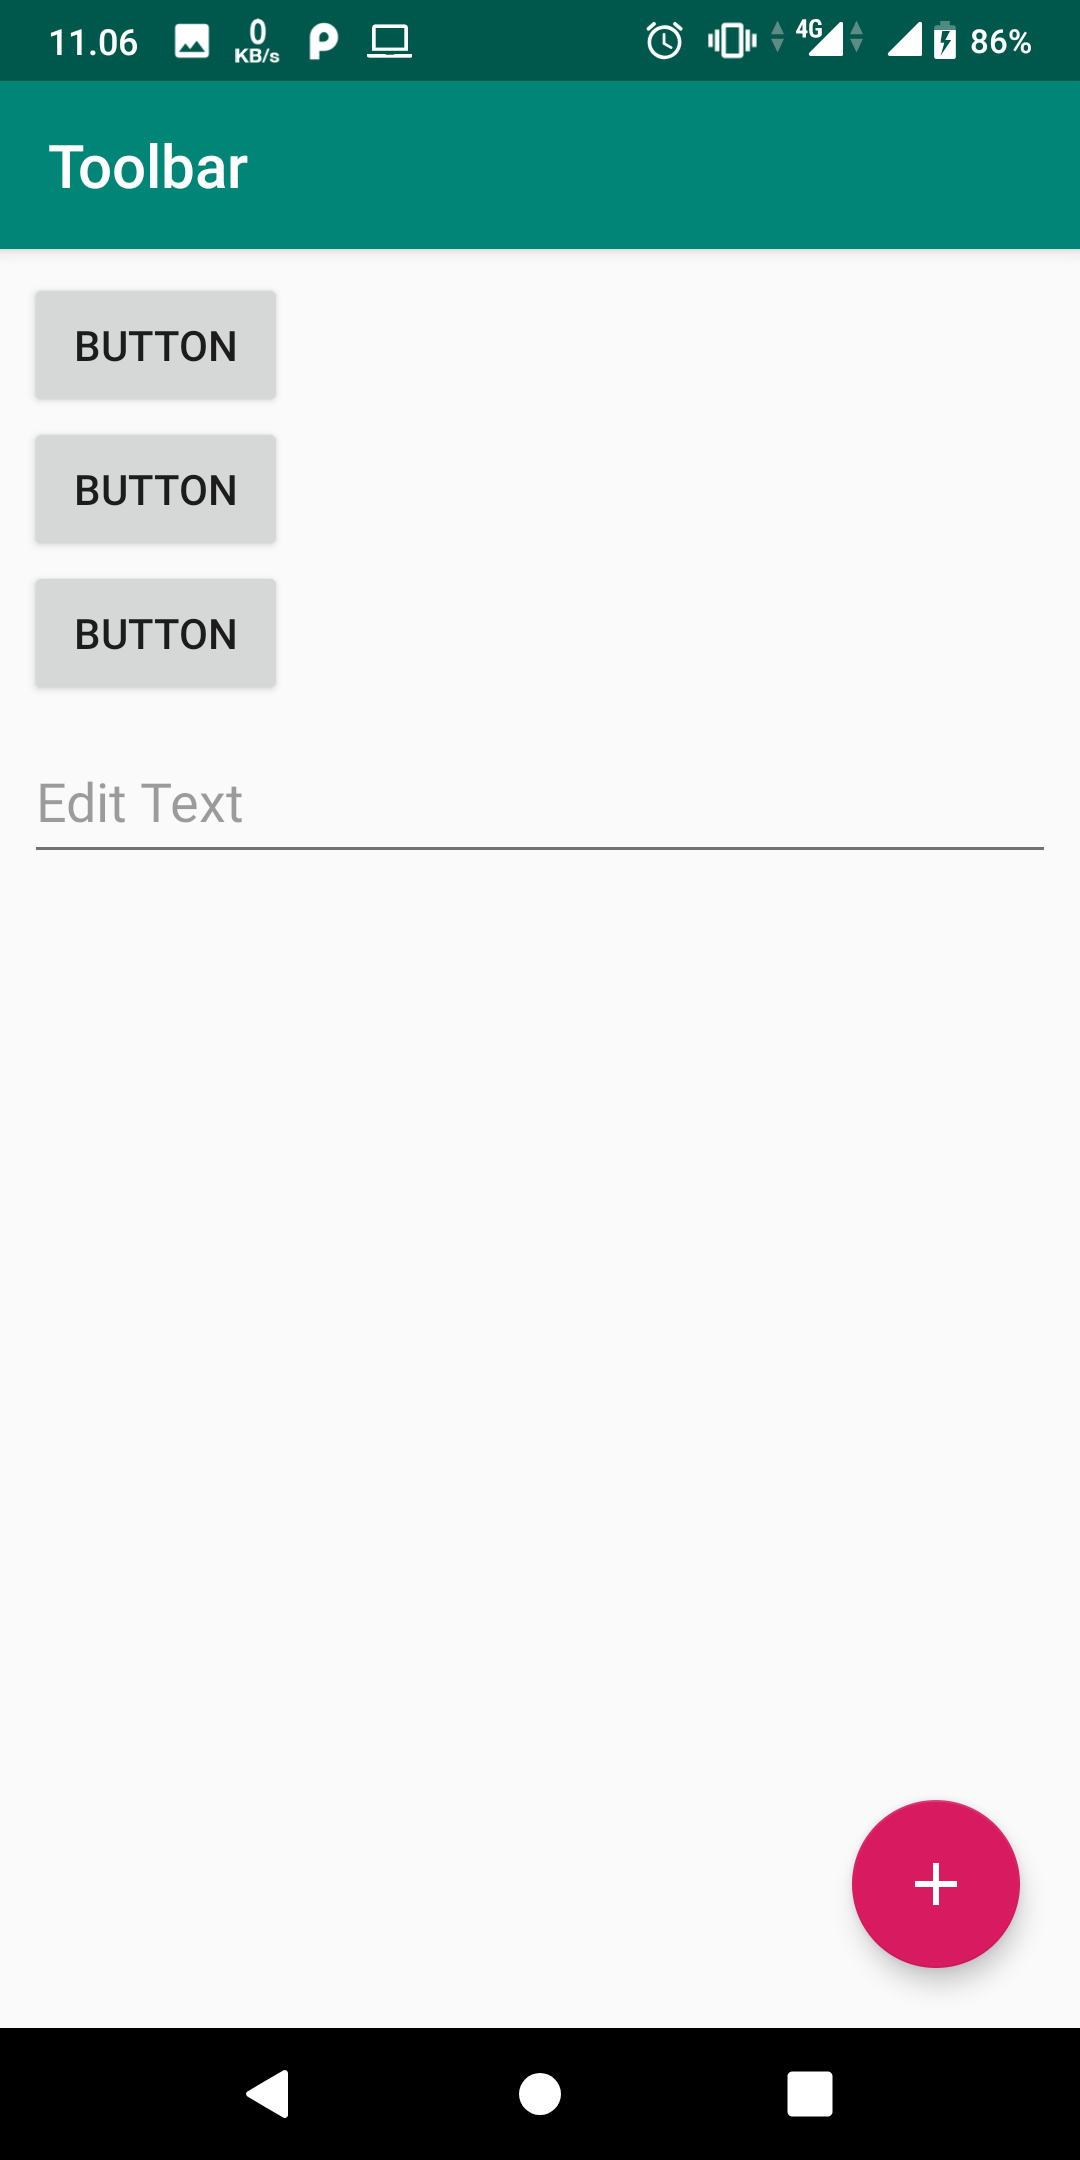button: (25, 280, 291, 412), (22, 426, 287, 554), (28, 570, 291, 696)
editText: (25, 748, 1057, 883)
floatingButton: (851, 1794, 1025, 1973)
toolbar: (3, 85, 1080, 248)
